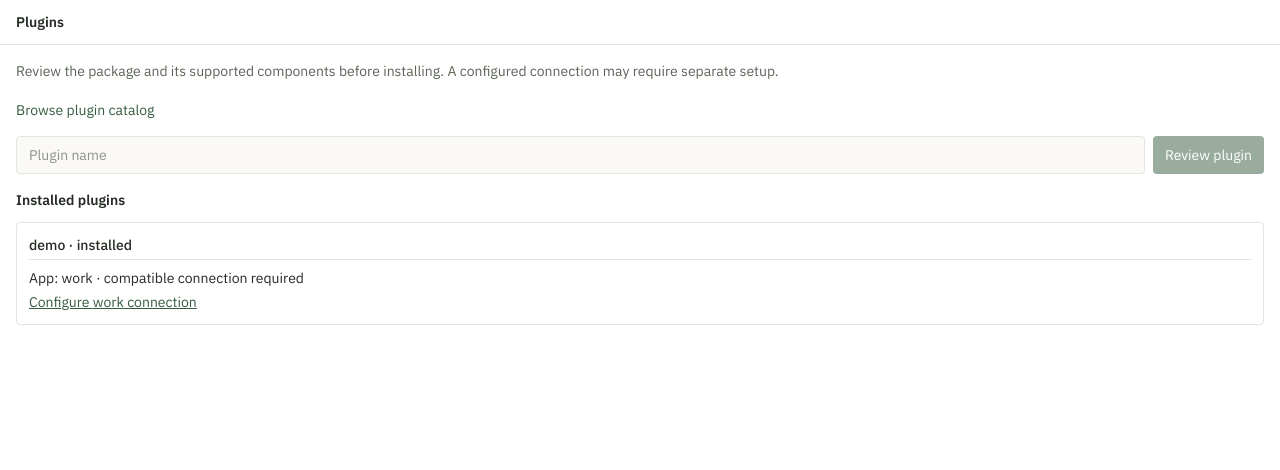
Test case: binds an app to explicitly selected MCP tools and the reviewed revision
Click the button "Configure work connection" at [113, 302], box [29, 292, 197, 312]
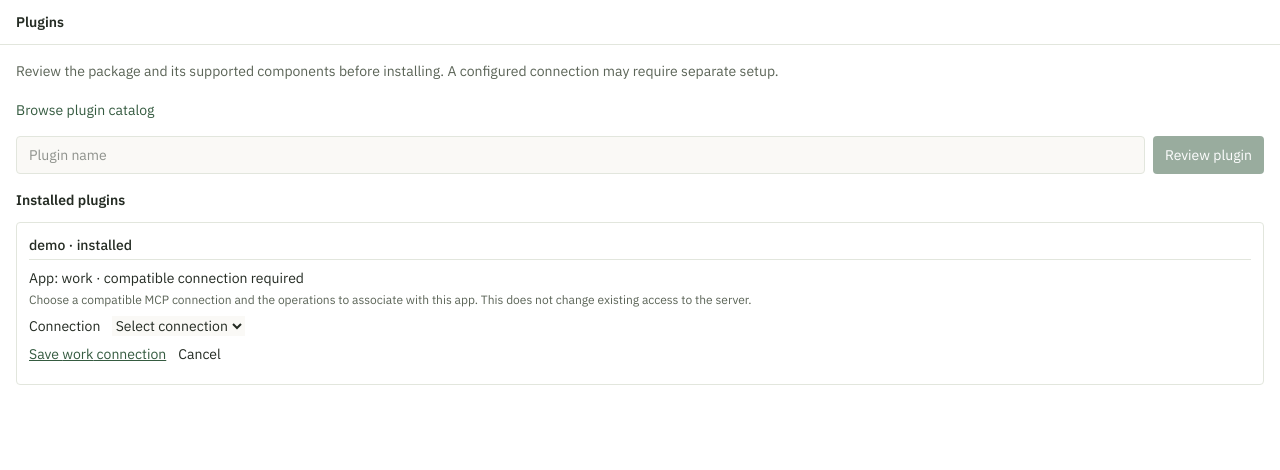
Select "work-mcp" in the dropdown named "Connection for work" at [178, 326], box [112, 316, 245, 336]
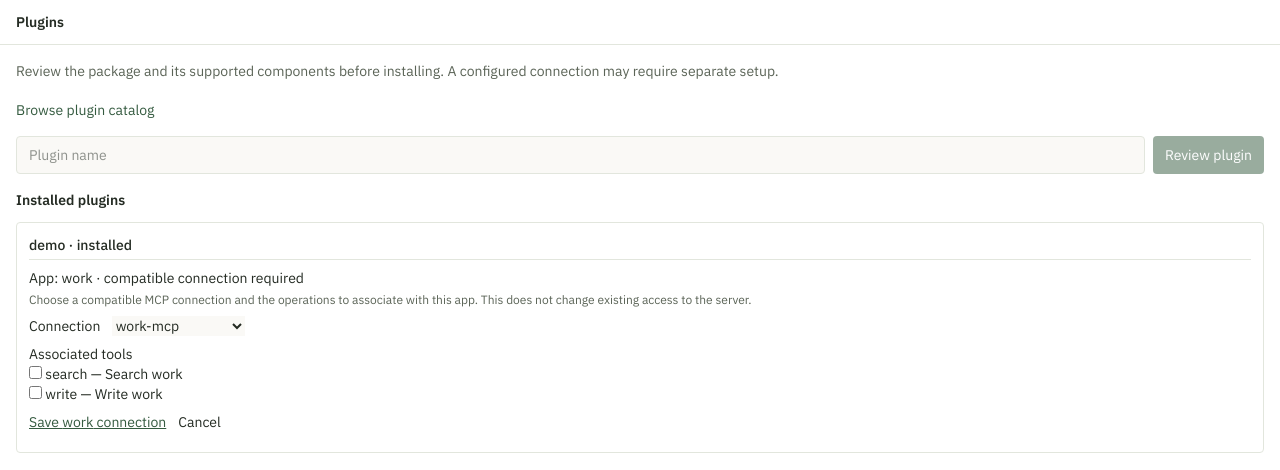
Click the checkbox labelled "search — Search work" at [36, 372], box [29, 366, 42, 379]
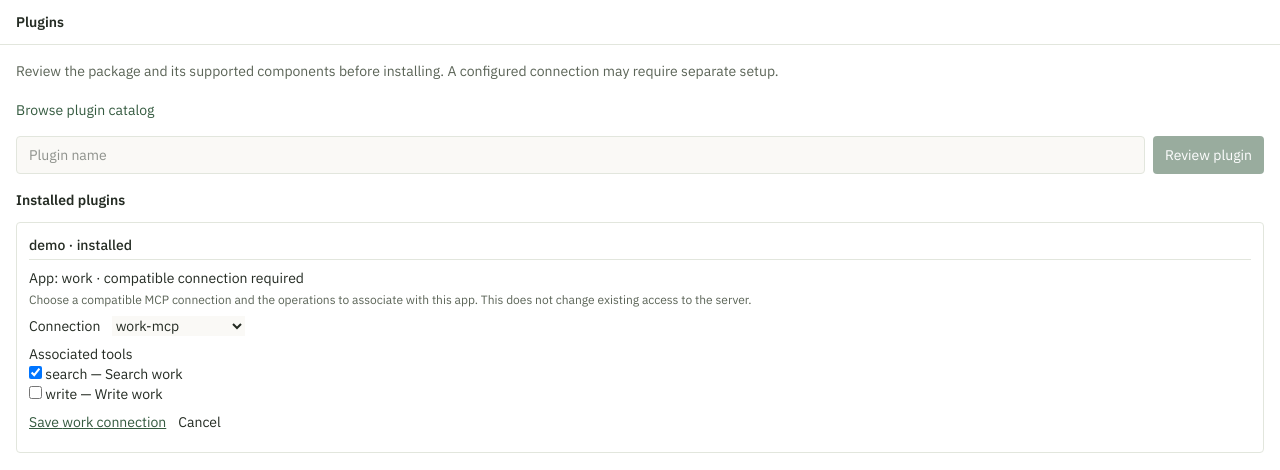
Click the button "Save work connection" at [98, 422], box [29, 412, 166, 432]
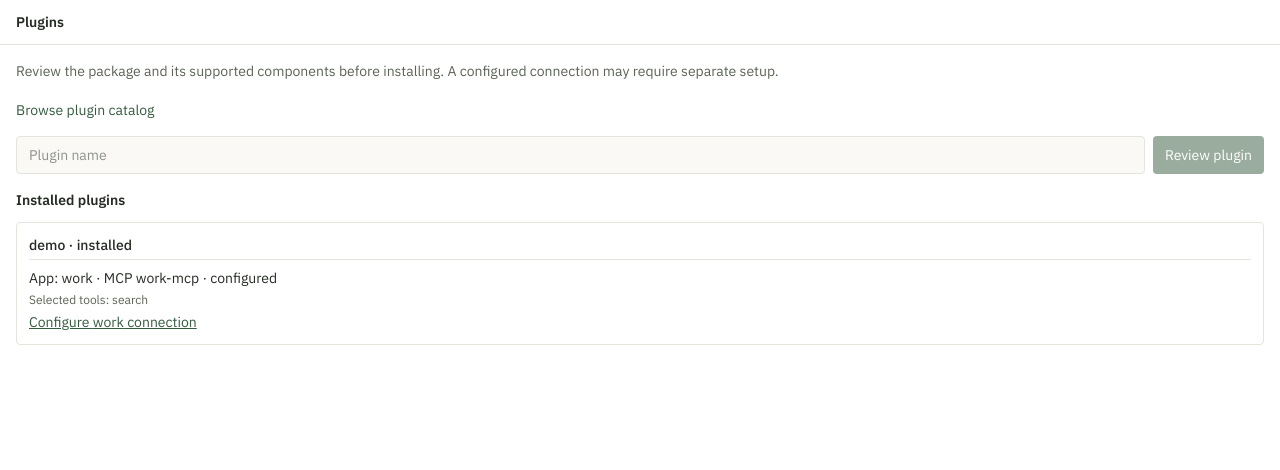
Expected: the text "App: work · MCP work-mcp · configured" is shown, [29, 269, 277, 287]
